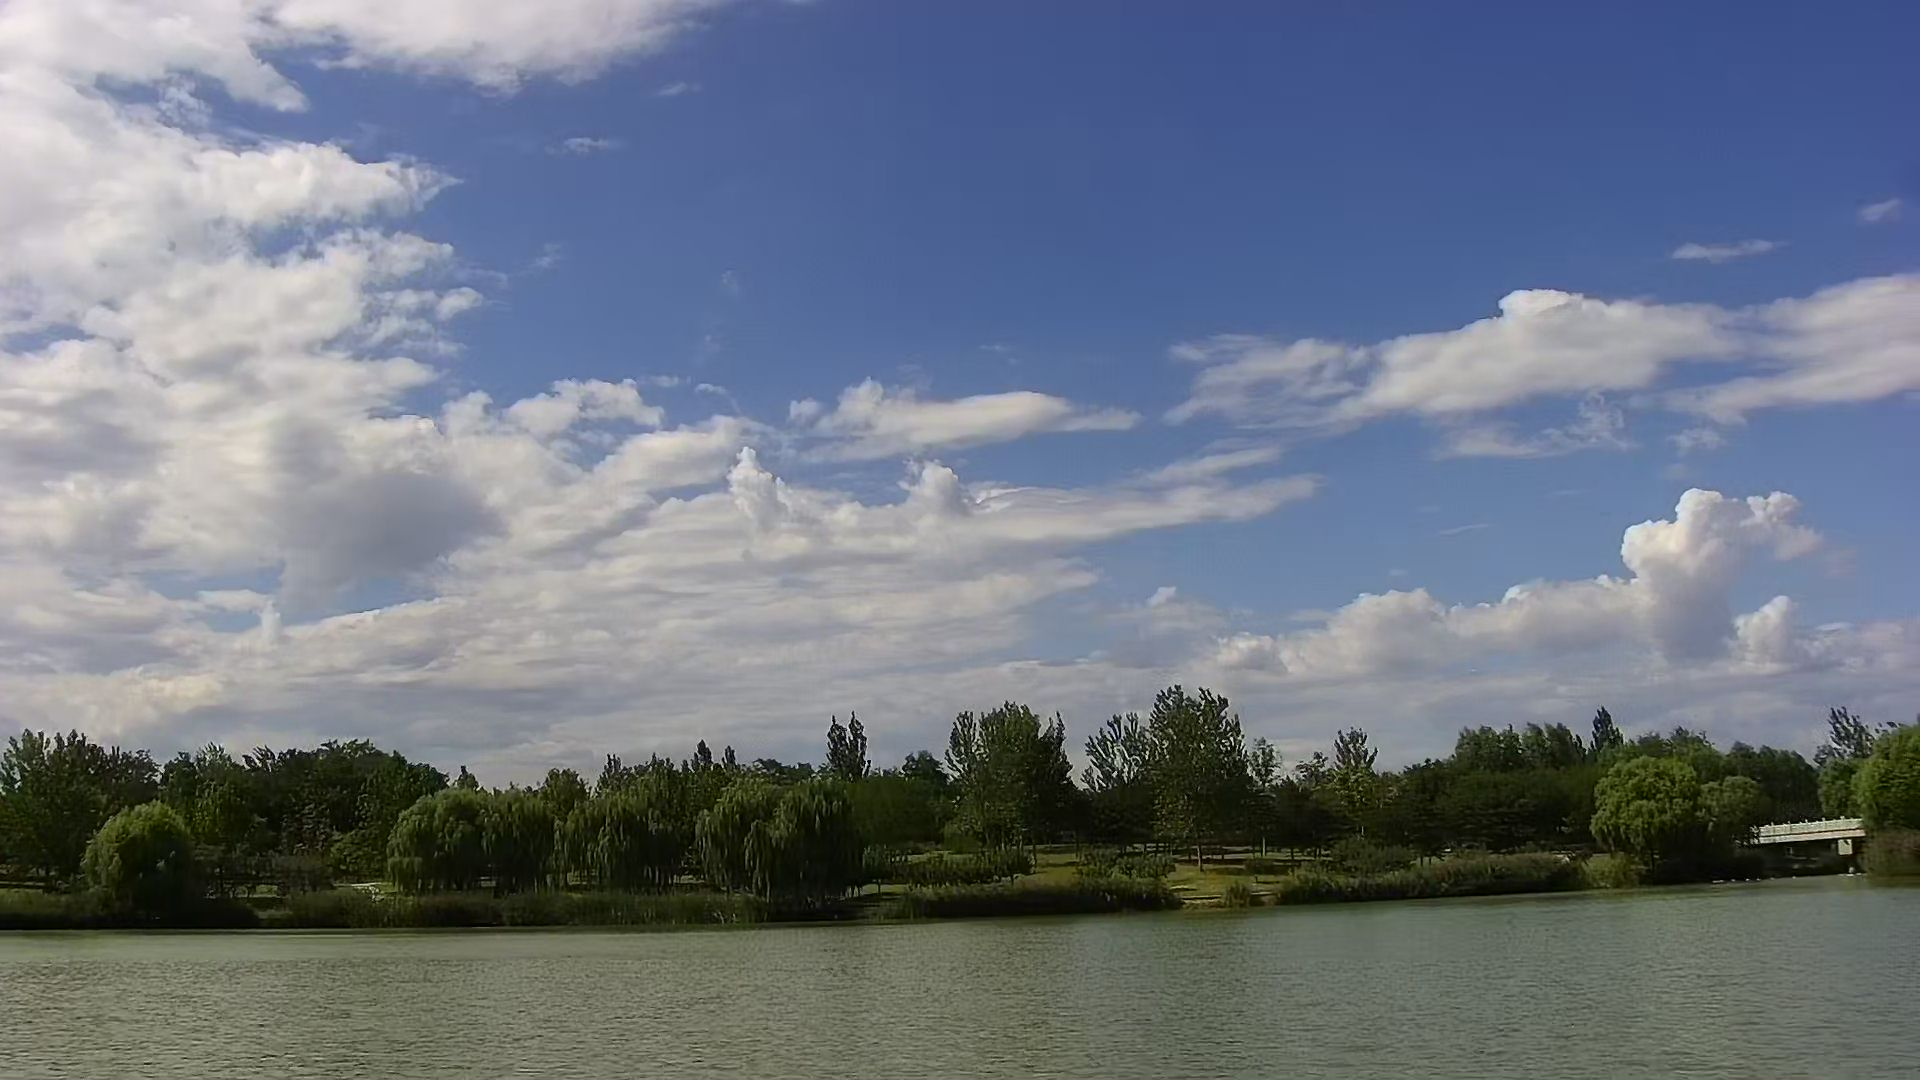bridge: (1747, 816, 1863, 874)
